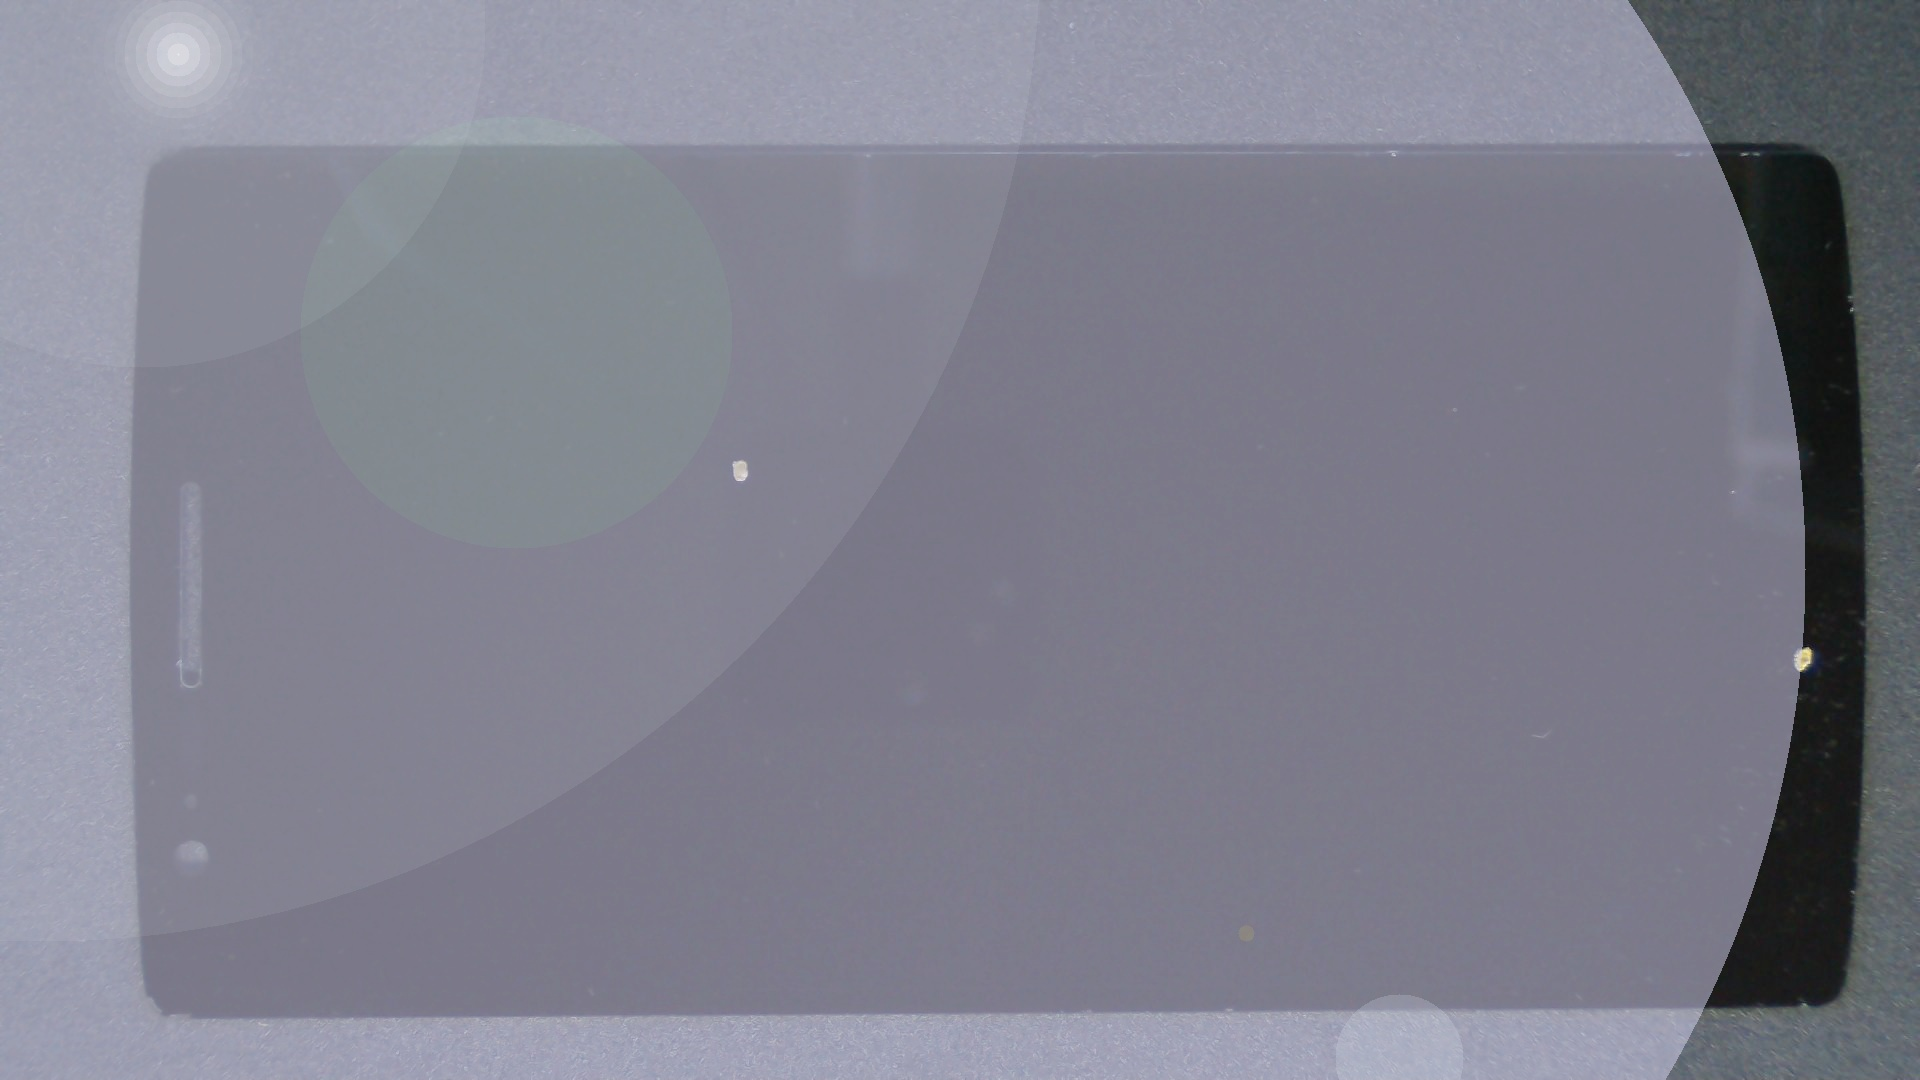oil: (906, 320, 1920, 965), (373, 228, 1117, 687)
